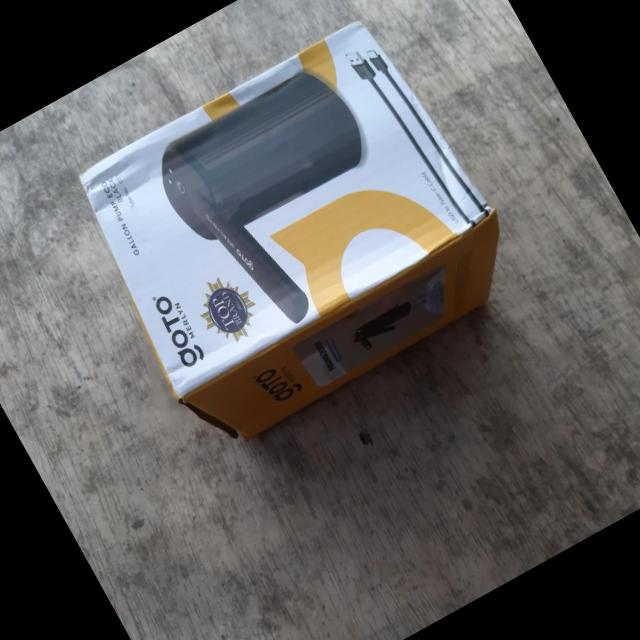Kardus: (56, 1, 536, 462)
